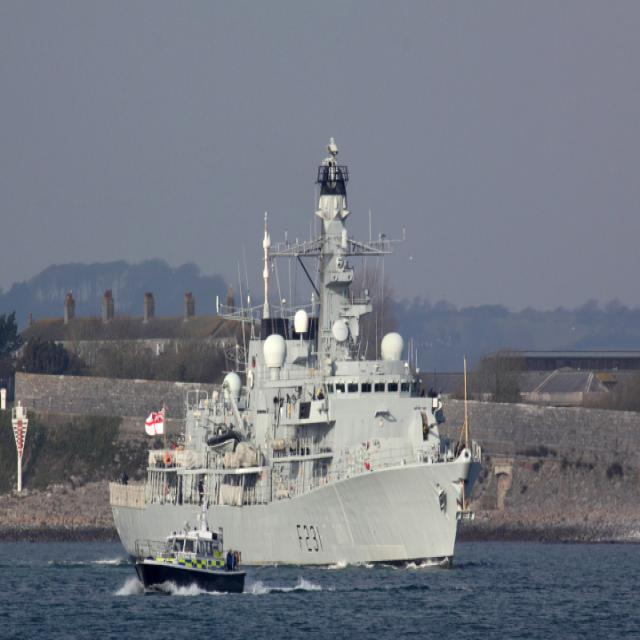Fragata: (104, 130, 486, 577)
